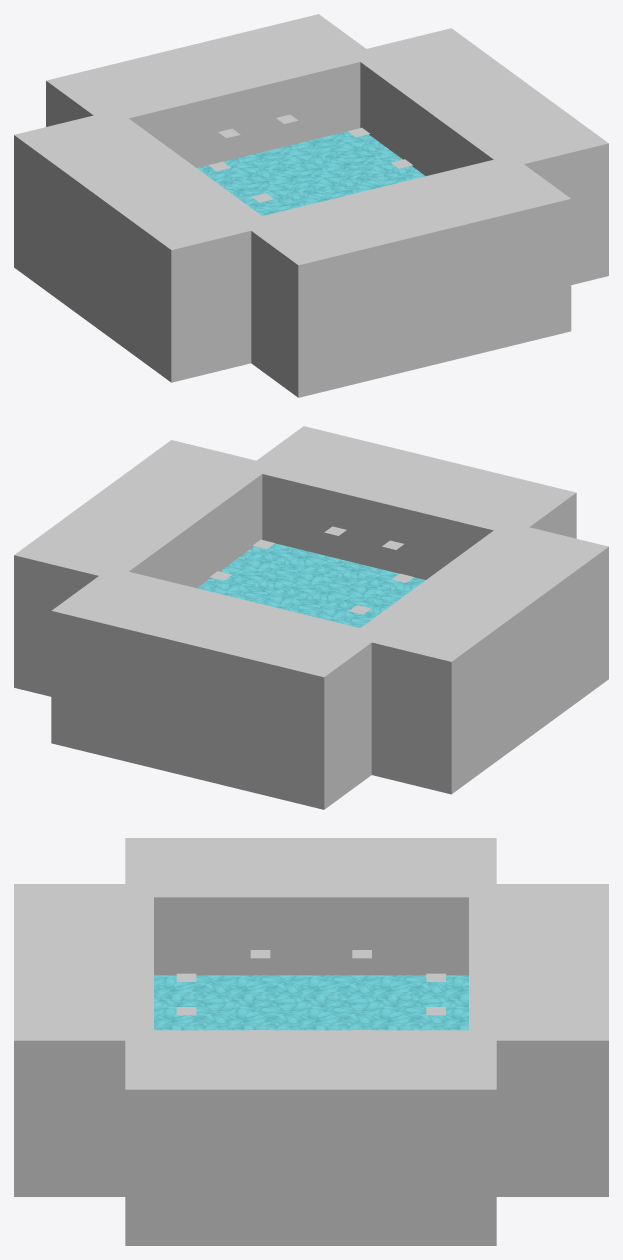
File: level_06.glb
The picture shows the model from 3 angles, top to bottom: view 1: azimuth 30°, elevation 25°; view 2: azimuth 150°, elevation 25°; view 3: azimuth 270°, elevation 25°; orthographic projection. The views are drawn at different scales.
Visible parts, largest first — view 1: Cube.Invisible.007, Cube.Invisible.008, Cube.Invisible.006, Cube.Invisible.004, Cube; view 2: Cube.Invisible.006, Cube.Invisible.008, Cube.Invisible.007, Cube.Invisible.004, Cube; view 3: Cube.Invisible.004, Cube.Invisible.008, Cube.Invisible.006, Cube.Invisible.007, Cube.
Part boxes in pixels (<box>): Cube.Invisible.007: <box>239,155,571,397</box>; Cube.Invisible.008: <box>14,115,267,382</box>; Cube.Invisible.006: <box>46,14,377,167</box>; Cube.Invisible.004: <box>354,28,608,284</box>; Cube: <box>197,131,425,215</box>; Cube.Invisible.006: <box>51,567,382,809</box>; Cube.Invisible.008: <box>354,527,608,794</box>; Cube.Invisible.007: <box>244,426,576,579</box>; Cube.Invisible.004: <box>14,440,269,696</box>; Cube: <box>197,543,425,627</box>; Cube.Invisible.004: <box>125,1030,496,1245</box>; Cube.Invisible.008: <box>125,838,496,975</box>; Cube.Invisible.006: <box>469,884,608,1196</box>; Cube.Invisible.007: <box>14,884,153,1196</box>; Cube: <box>154,975,468,1030</box>.
Bounding box in the file's own units: 60.46 × 17.5 × 60.41.
1 material, 1 textured.
